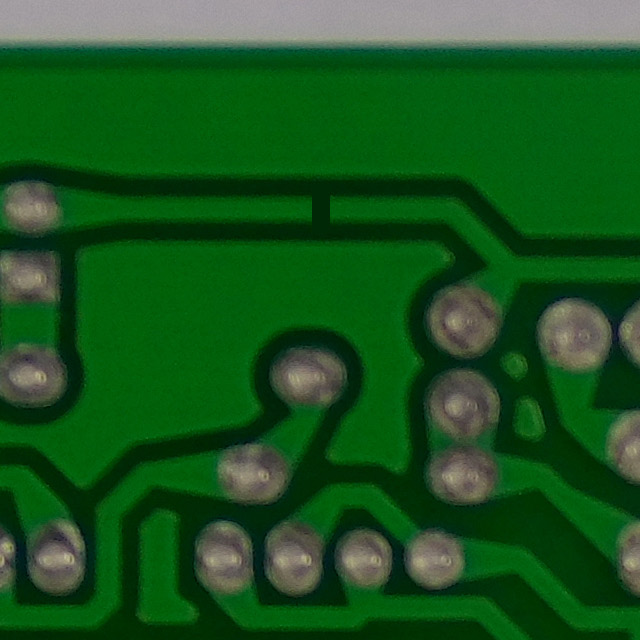open_circuit: (293, 182, 347, 233)
